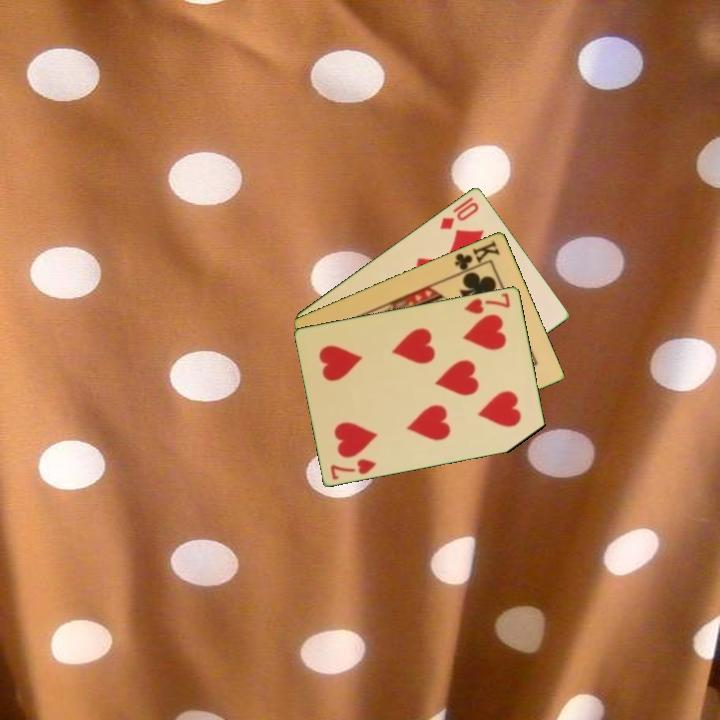10d: (436, 193, 482, 232)
7h: (460, 289, 513, 317), (327, 455, 380, 482)
Kc: (451, 236, 503, 277)
